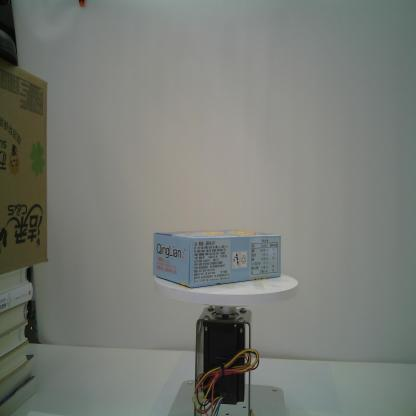Dessert: (153, 229, 281, 289)
